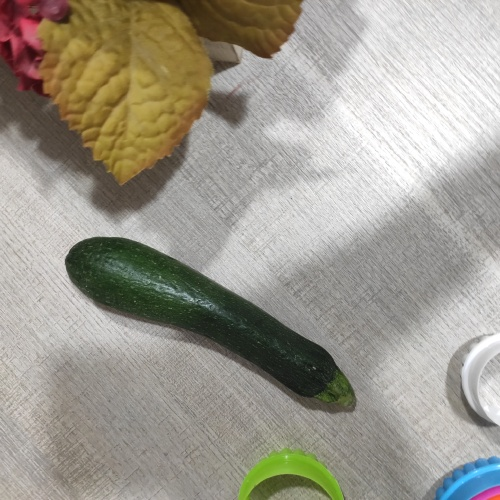zucchine: (66, 228, 366, 422)
